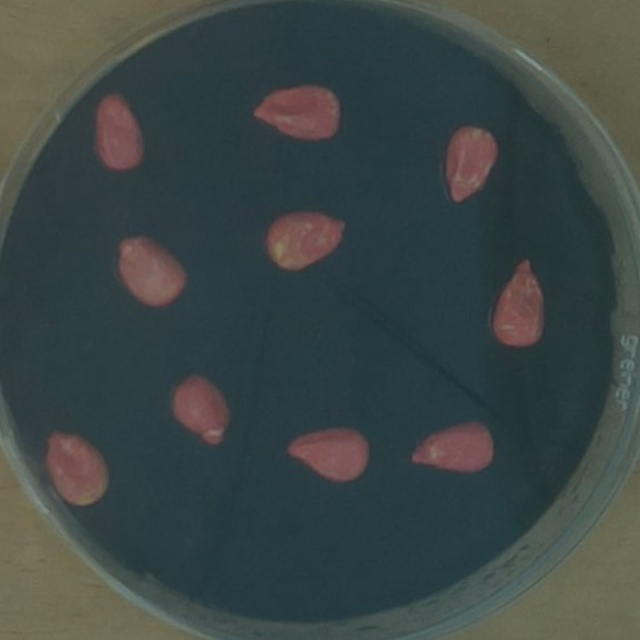Zea mays: (244, 74, 349, 149), (107, 226, 196, 314), (258, 200, 353, 279), (36, 423, 118, 514), (279, 418, 376, 492), (487, 249, 553, 355), (403, 410, 500, 482), (437, 116, 508, 212), (166, 363, 238, 452), (86, 85, 152, 178)
